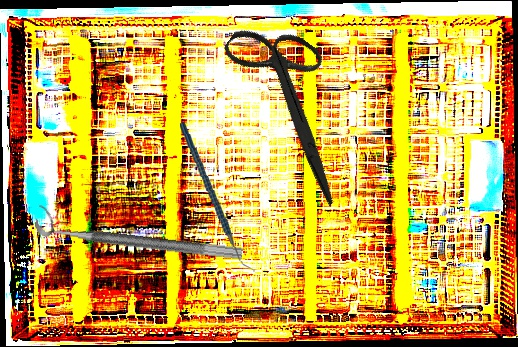Chopper: (179, 117, 256, 278)
Fixation Ring: (33, 204, 246, 261)
Iris Scissors: (184, 4, 400, 207)
